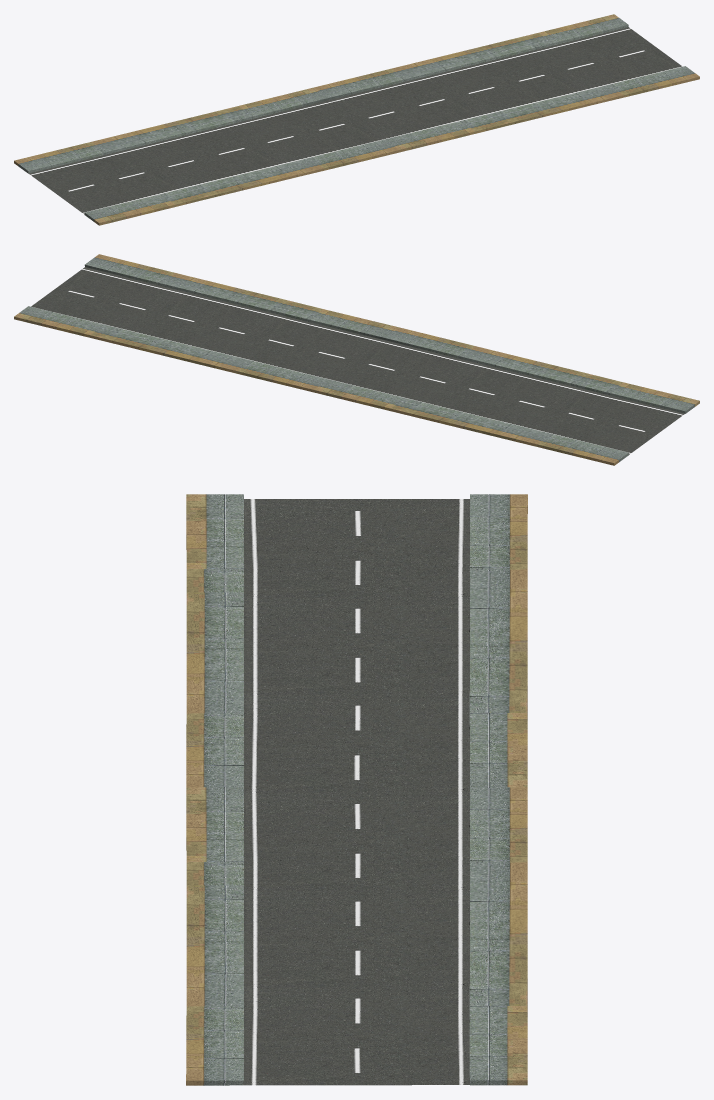
Rendered from road E.FBX.
3 renders of one model, top to bottom at view 1: azimuth 30°, elevation 25°; view 2: azimuth 150°, elevation 25°; view 3: azimuth 270°, elevation 25°, orthographic. The views are drawn at different scales.
Visible parts, largest first — view 1: Box002; view 2: Box002; view 3: Box002.
Part boxes in pixels (x1,y1,x2,y2): Box002: (14, 14, 699, 225); Box002: (14, 254, 699, 465); Box002: (186, 494, 527, 1085).
Bounding box in the file's own units: 600 × 2.5 × 148.
